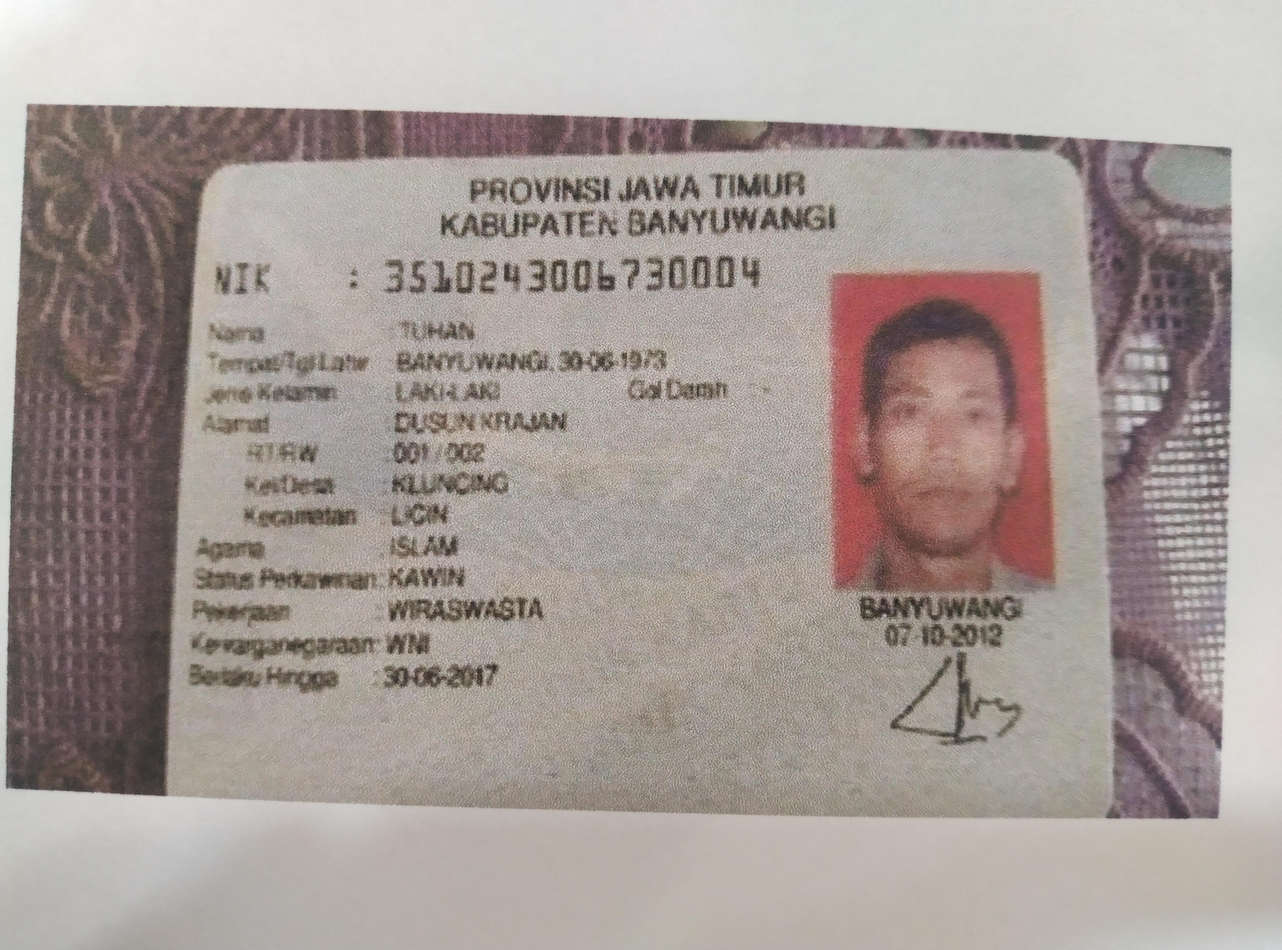ID-card: (169, 155, 1110, 810)
